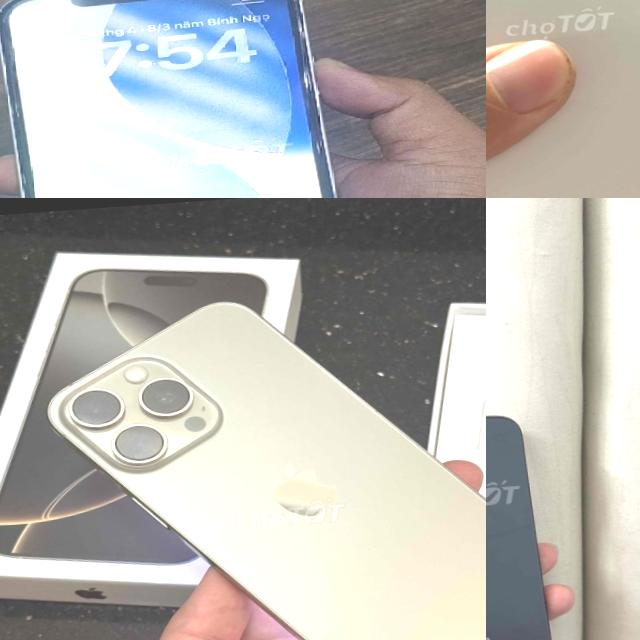gen_12_13: (0, 0, 367, 198)
gen_15: (486, 0, 640, 198)
gen_16: (48, 302, 486, 640)
gen_x_xs: (486, 416, 548, 640)
